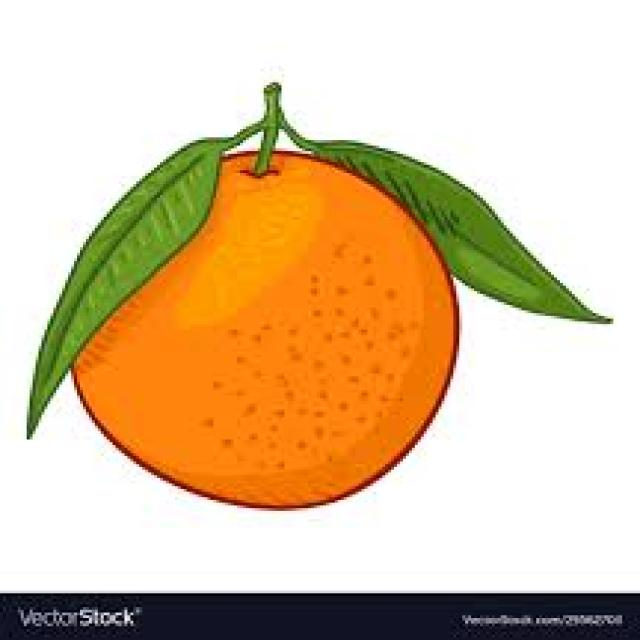orange: (57, 104, 516, 504)
